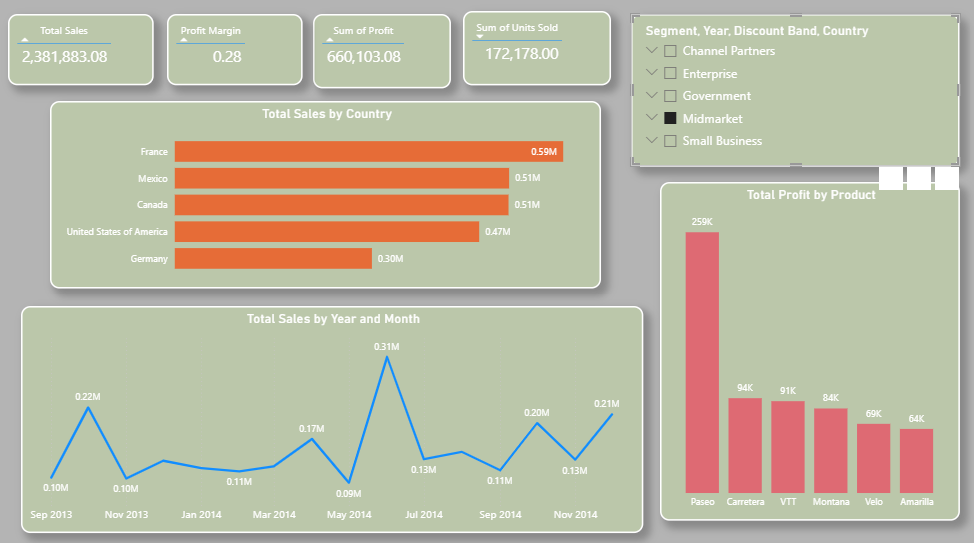

This screenshot's page, from the dashboard's own definition file:
{"tool":"powerbi","page":{"name":"Executive Overview","canvas":[1280,720],"ordinal":0},"visuals":[{"type":"tableEx","fields":{"Values":["financials.Total Sales"]},"box":[23.5,25.2,188.1,92.4],"z":0},{"type":"tableEx","fields":{"Values":["Sum(financials.Profit)"]},"box":[417.1,25.2,178.3,95.9],"z":1000},{"type":"tableEx","fields":{"Values":["Sum(financials.Units Sold)"]},"box":[609.8,21.8,191.5,95.7],"z":2000},{"type":"tableEx","fields":{"Values":["financials.Profit Margin"]},"box":[228.5,25.2,174.7,92.4],"z":3000},{"type":"clusteredBarChart","fields":{"Y":["financials.Total Sales"],"Category":["financials.Country"]},"box":[77.4,137.9,711.5,242.2],"z":4000},{"type":"lineChart","fields":{"Y":["financials.Total Sales"],"Category":["financials.Date.Variation.Date Hierarchy.Year","financials.Date.Variation.Date Hierarchy.Month"]},"box":[40.5,403.1,802.7,293.4],"z":5000},{"type":"clusteredColumnChart","fields":{"Category":["financials.Product"],"Y":["financials.Total Profit"]},"box":[864.5,242.2,386.9,437.3],"z":6000},{"type":"slicer","fields":{"Values":["financials.Segment","financials.Year","financials.Discount Band","financials.Country"]},"box":[827.5,25.2,423.9,196.8],"z":7000}]}

Visuals, with their boxes in screenshot pixels (x1, y1, x2, y2), scaled from the page's 1280x720 canvas onto the 974x543 screenshot:
tableEx - financials.Total Sales: BBox(18, 19, 161, 89)
tableEx - Sum(financials.Profit): BBox(317, 19, 453, 91)
tableEx - Sum(financials.Units Sold): BBox(464, 16, 610, 89)
tableEx - financials.Profit Margin: BBox(174, 19, 307, 89)
clusteredBarChart - financials.Total Sales x financials.Country: BBox(59, 104, 600, 287)
lineChart - financials.Total Sales x financials.Date.Variation.Date Hierarchy.Year: BBox(31, 304, 642, 525)
clusteredColumnChart - financials.Product x financials.Total Profit: BBox(658, 183, 952, 512)
slicer - financials.Segment x financials.Year: BBox(630, 19, 952, 167)
